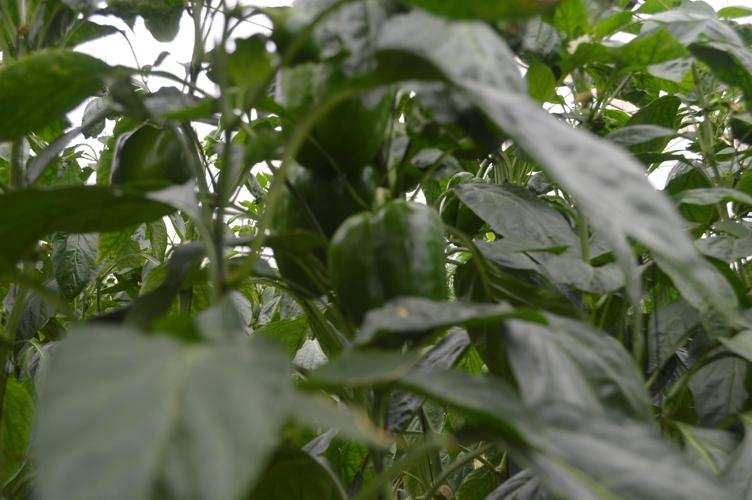BellPepper: (320, 196, 455, 335), (263, 52, 406, 165), (98, 121, 198, 212)
